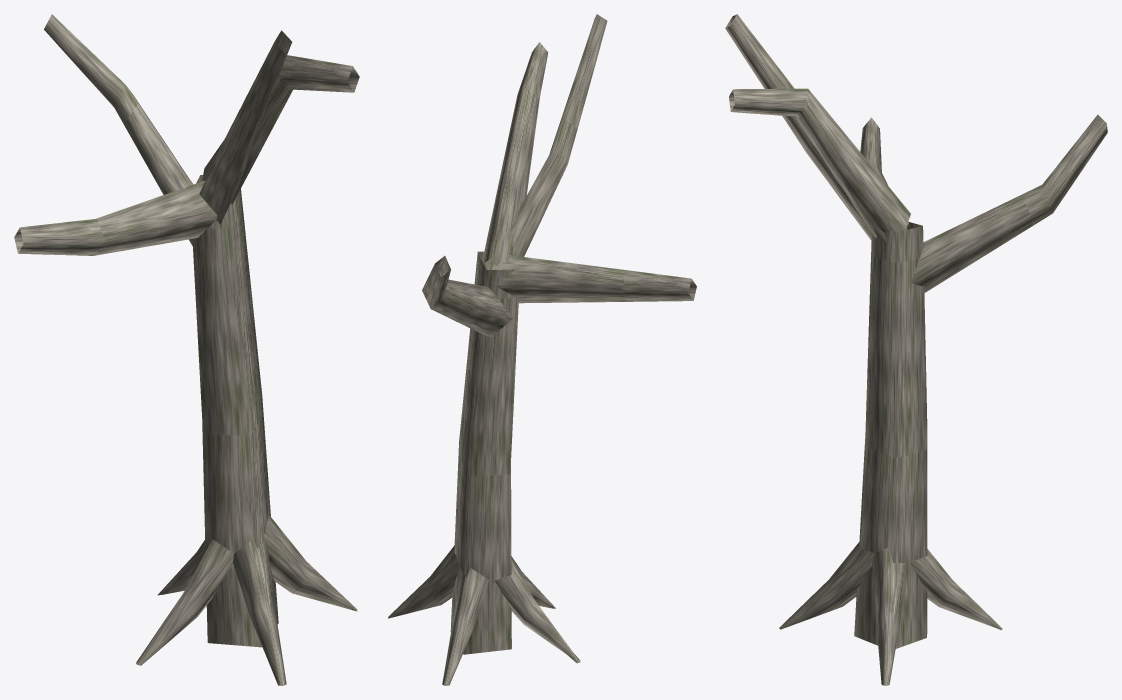
Rendered from DeadTree_3_LOD2.gltf.
3 renders of one model, left to right at view 1: azimuth 30°, elevation 25°; view 2: azimuth 150°, elevation 25°; view 3: azimuth 270°, elevation 25°, orthographic. The views are drawn at different scales.
Parts seen in each view (by area): view 1: DeadTree_3_LOD2; view 2: DeadTree_3_LOD2; view 3: DeadTree_3_LOD2.
Part boxes in pixels (left/top/right/bottom): DeadTree_3_LOD2: left=14, top=14, right=359, bottom=685; DeadTree_3_LOD2: left=388, top=14, right=696, bottom=685; DeadTree_3_LOD2: left=725, top=14, right=1107, bottom=685.
Bounding box in the file's own units: 7.02 × 13.11 × 7.54.
1 material, 1 textured.
